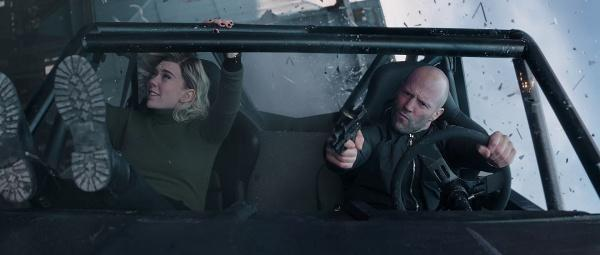Gun: (326, 105, 370, 152)
